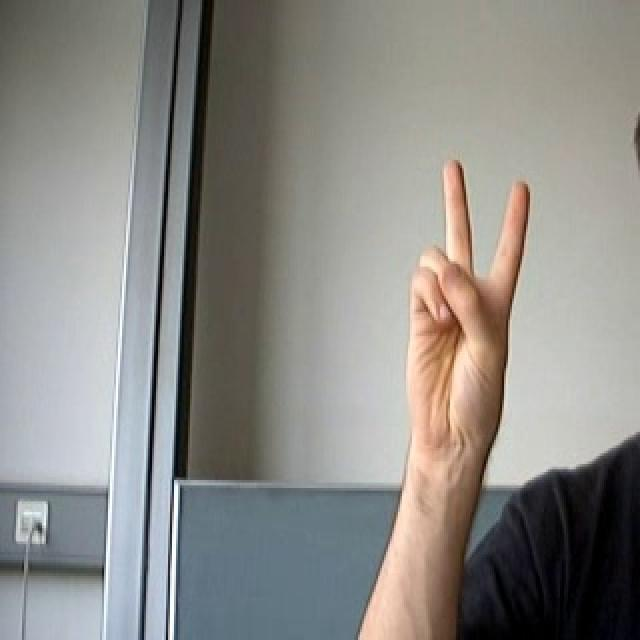V: (395, 151, 544, 459)
